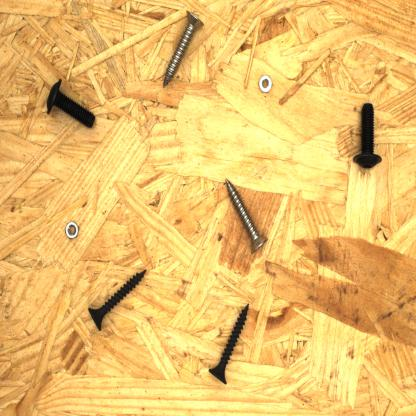screw: (86, 264, 150, 335), (160, 7, 206, 94), (206, 300, 251, 388), (222, 173, 270, 255), (43, 75, 98, 134), (350, 100, 384, 173)
